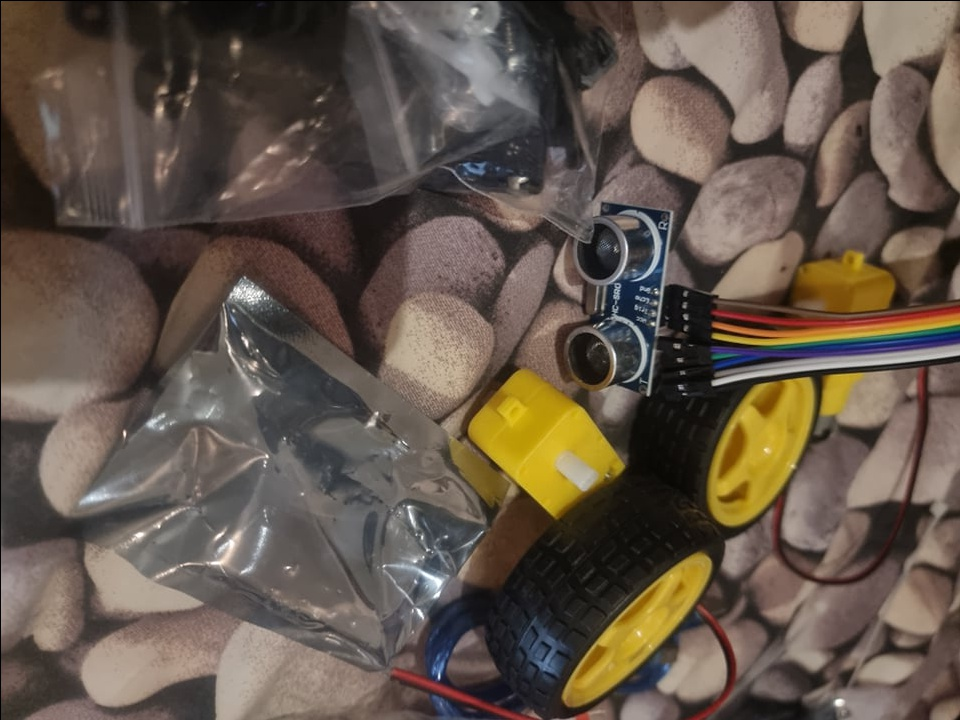SENSOR: (563, 204, 655, 395)
